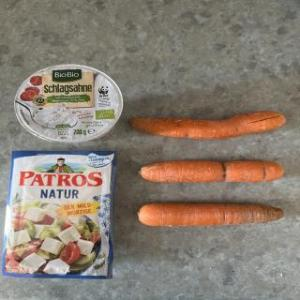carrot: (131, 110, 289, 152), (130, 158, 284, 189), (134, 200, 288, 230)
